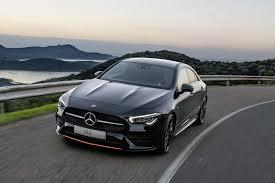mercedes: (83, 111, 99, 125)
